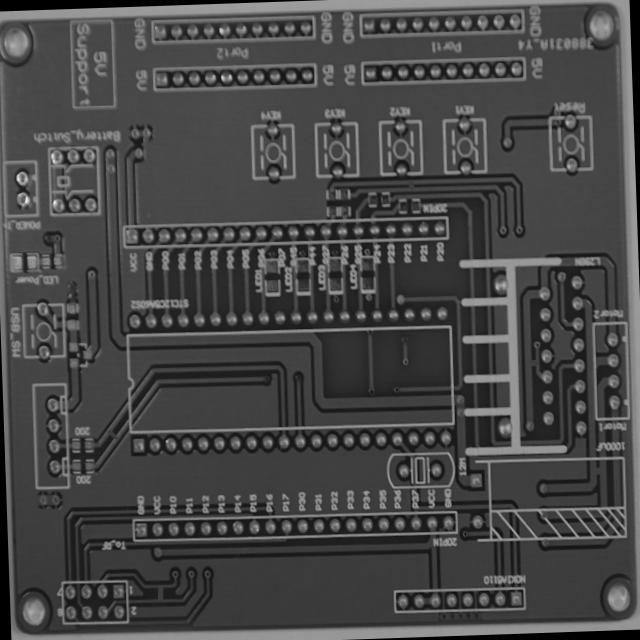short: (150, 580, 170, 606), (101, 424, 122, 446), (588, 458, 606, 482), (523, 352, 541, 375), (400, 175, 420, 195)
